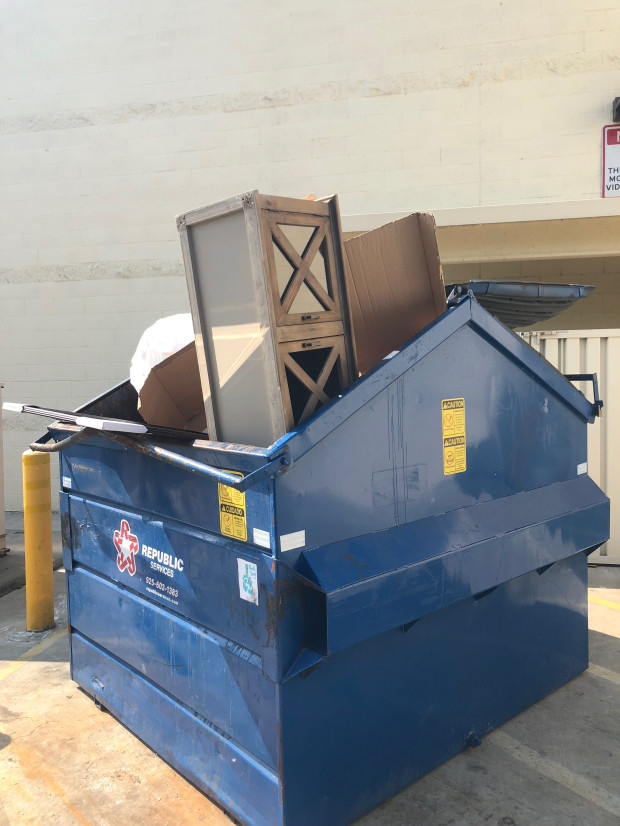Dumpster: (42, 269, 620, 818)
